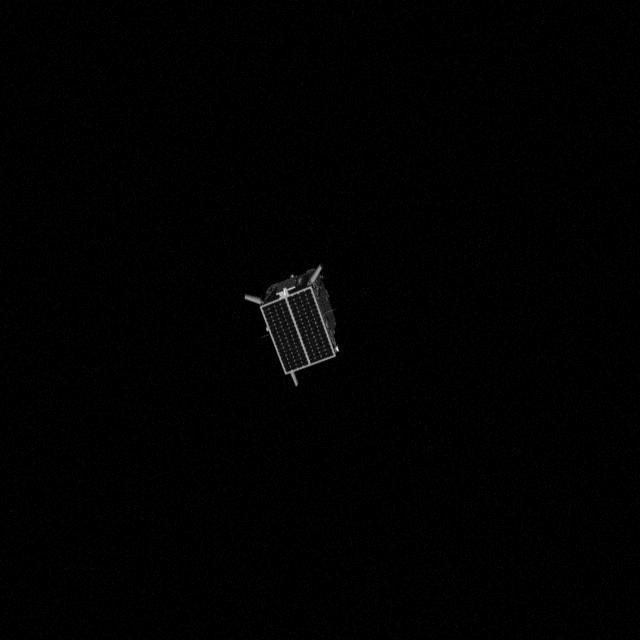medium_debris: (238, 262, 350, 392)
